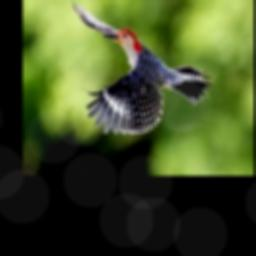Woodpecker: (72, 0, 211, 134)
